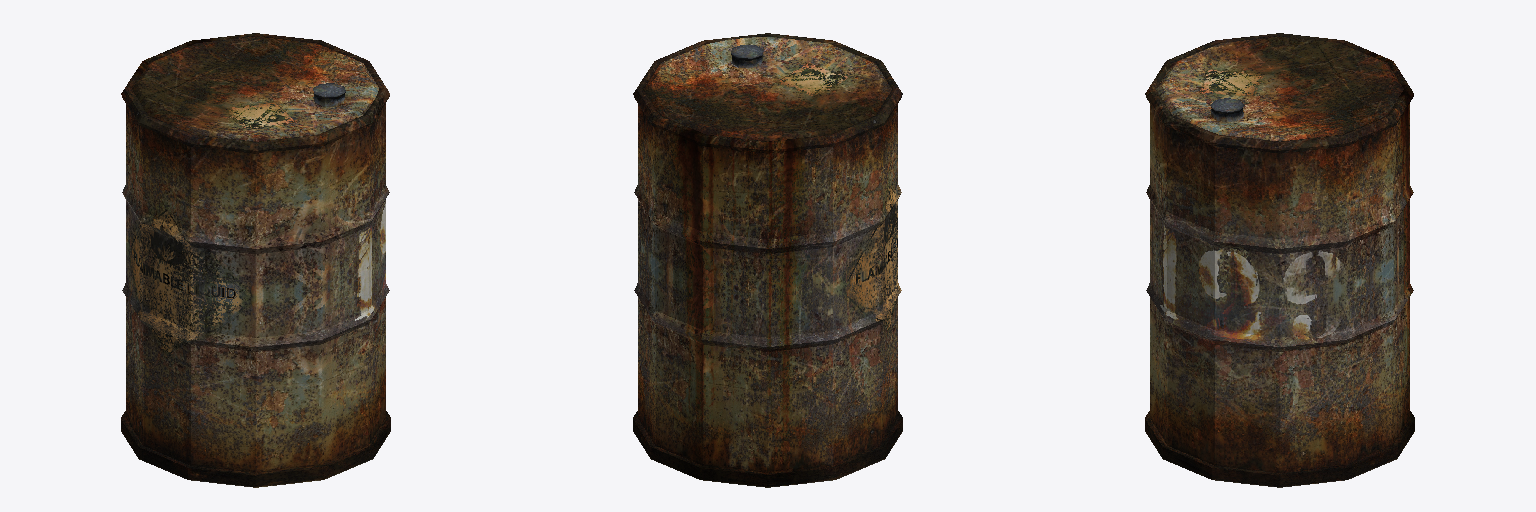
The picture shows the model from 3 angles: view 1: azimuth 30°, elevation 25°; view 2: azimuth 150°, elevation 25°; view 3: azimuth 270°, elevation 25°; orthographic projection.
Visible parts, largest first — view 1: barril_low_Circle.002; view 2: barril_low_Circle.002; view 3: barril_low_Circle.002.
Part boxes in pixels (x1,y1,x2,y2): barril_low_Circle.002: (121, 33, 390, 487); barril_low_Circle.002: (633, 33, 902, 487); barril_low_Circle.002: (1145, 33, 1414, 487).
Bounding box in the file's own units: 1.9 × 2.71 × 1.9.
Materials: 1 (1 with a texture image).